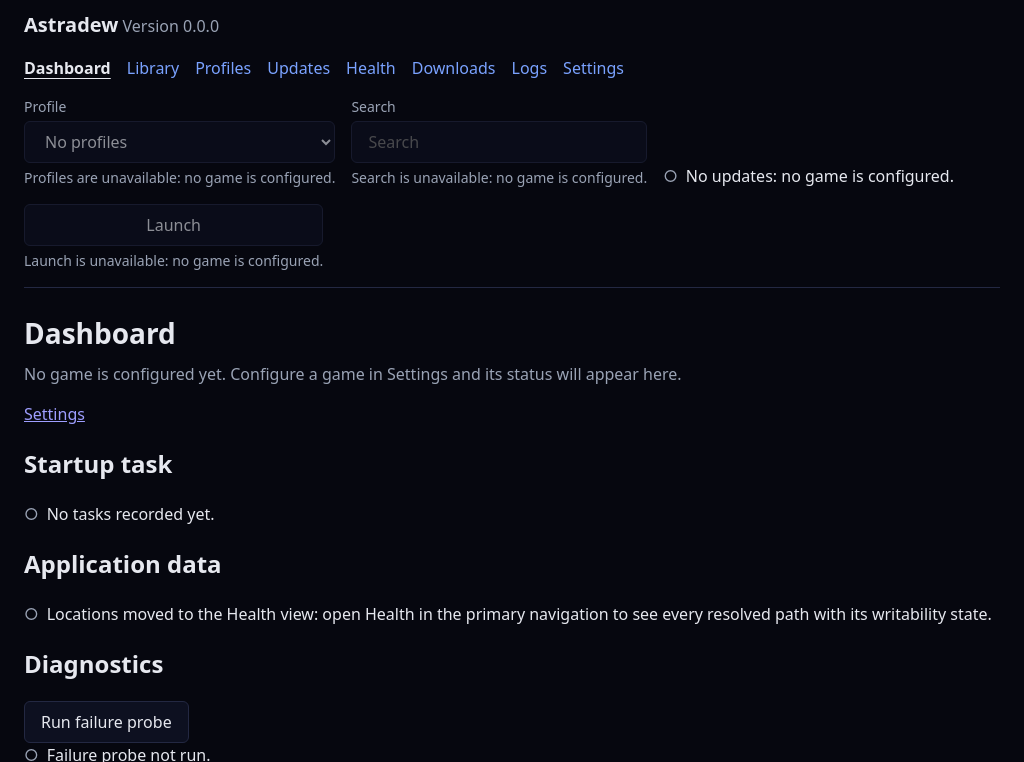
Test: failure probe › click runs the probe and a typed rejection shows the received code
Expected: the text "Astradew" is shown, left=24, top=11, right=118, bottom=38
Step 1. Click the button "Run failure probe" → (106, 722), box left=24, top=701, right=189, bottom=743
(page scrolled)
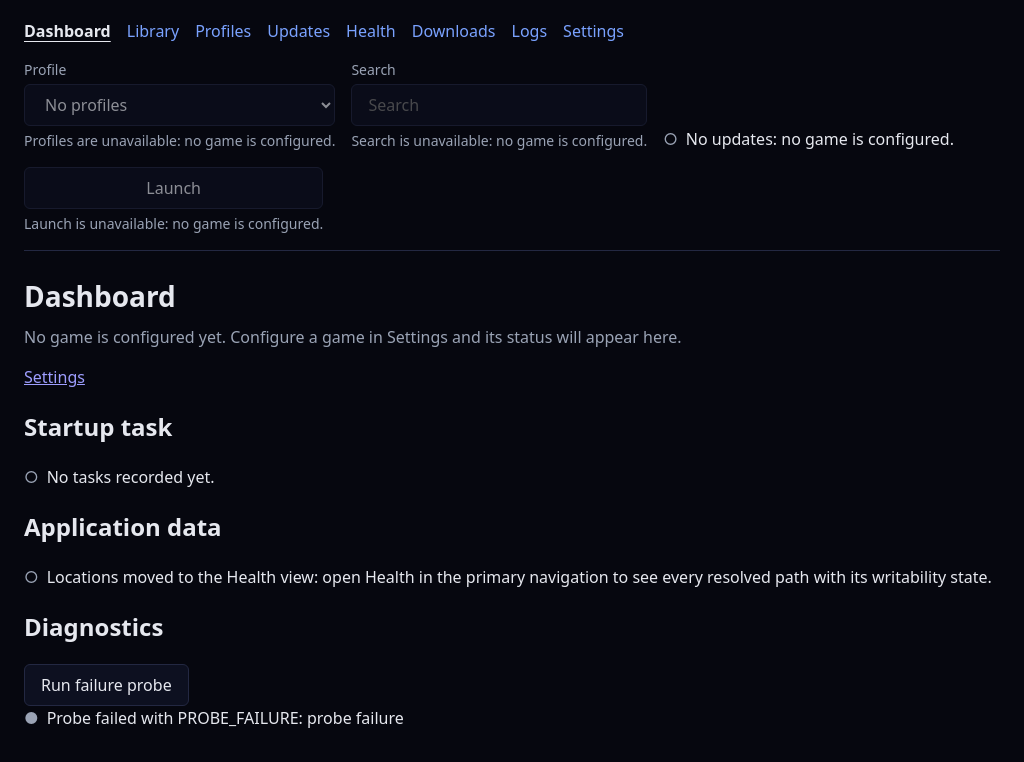
Expected: the text "Probe failed with PROBE_FAILURE: probe failure" is shown, left=47, top=706, right=404, bottom=730
